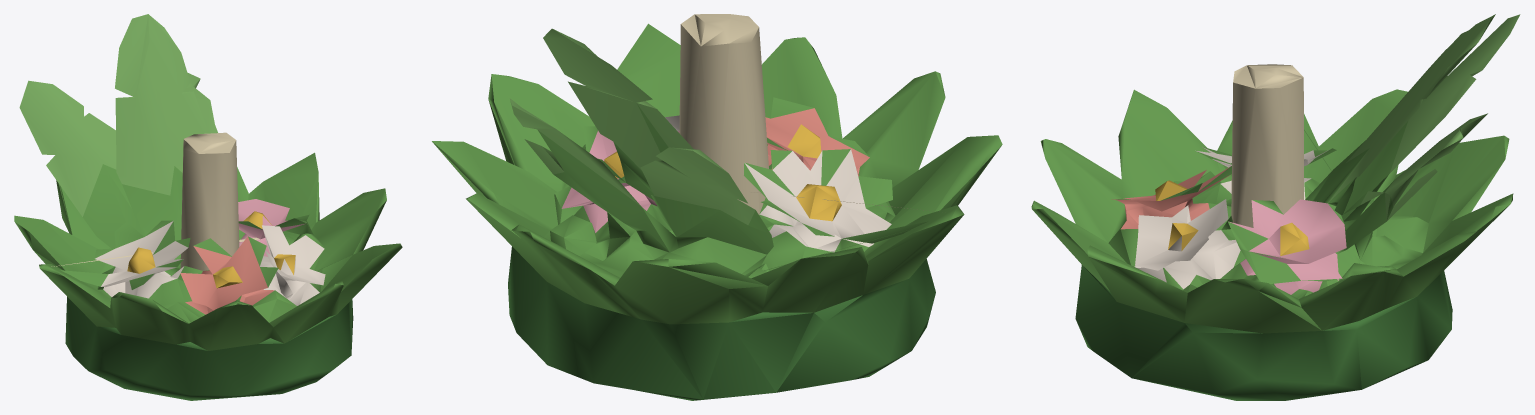
File: banana_leaf_01.medium.glb
3 views of the same model, side by side, from view 1: azimuth 30°, elevation 25°; view 2: azimuth 150°, elevation 25°; view 3: azimuth 270°, elevation 25° (orthographic). The views are drawn at different scales.
Size of the model in its own units: 2.08 by 1.55 by 2.07.
